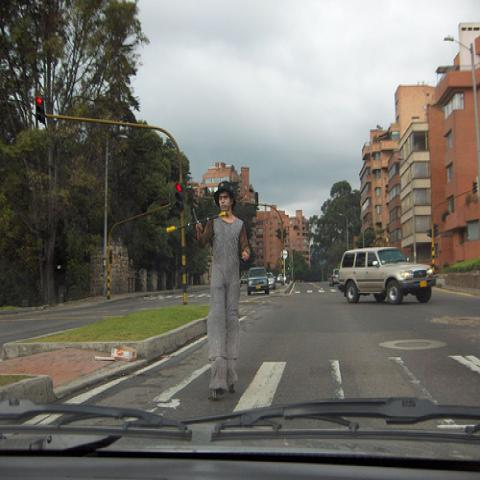car: (338, 247, 433, 304), (329, 268, 339, 287), (266, 272, 276, 289), (277, 273, 286, 283)
truck: (246, 267, 269, 295)
